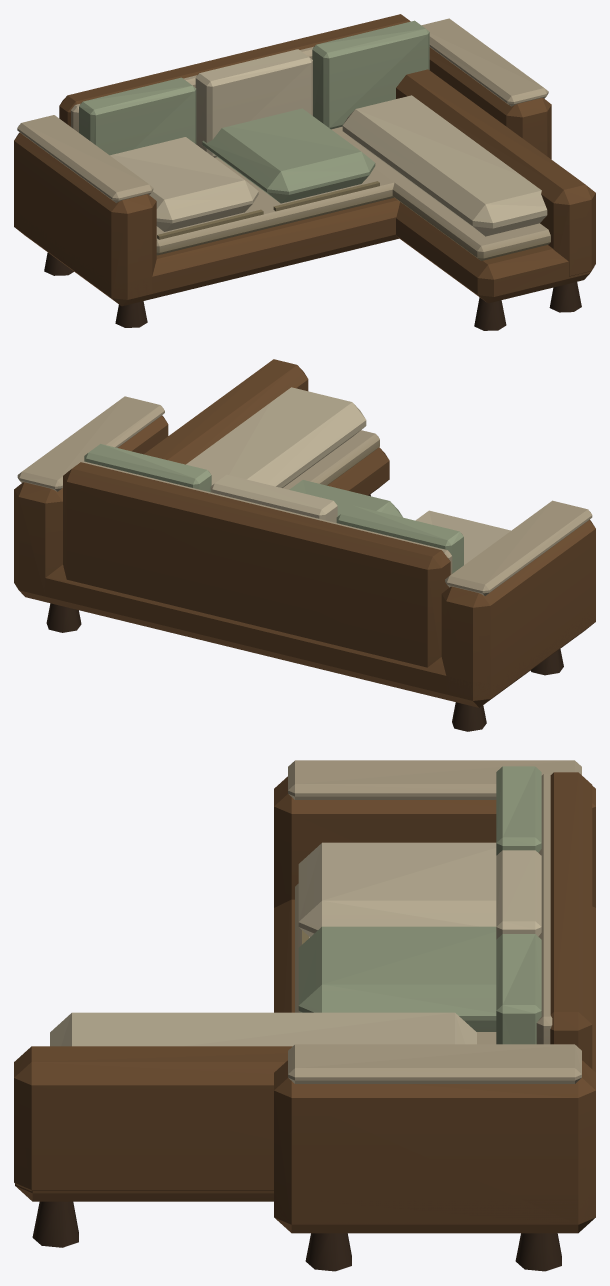
Rendered from sectional_l.glb.
3 views of the same model, one above another, from view 1: azimuth 30°, elevation 25°; view 2: azimuth 150°, elevation 25°; view 3: azimuth 270°, elevation 25° (orthographic). The views are drawn at different scales.
Visible parts, largest first — view 1: sectional_l; view 2: sectional_l; view 3: sectional_l.
Boxes of the visible parts, x1,y1,x2,y2 form: sectional_l: [14, 14, 595, 330]; sectional_l: [14, 359, 595, 731]; sectional_l: [14, 760, 595, 1271].
Size of the model in its own units: 2.14 by 0.76 by 1.66.
